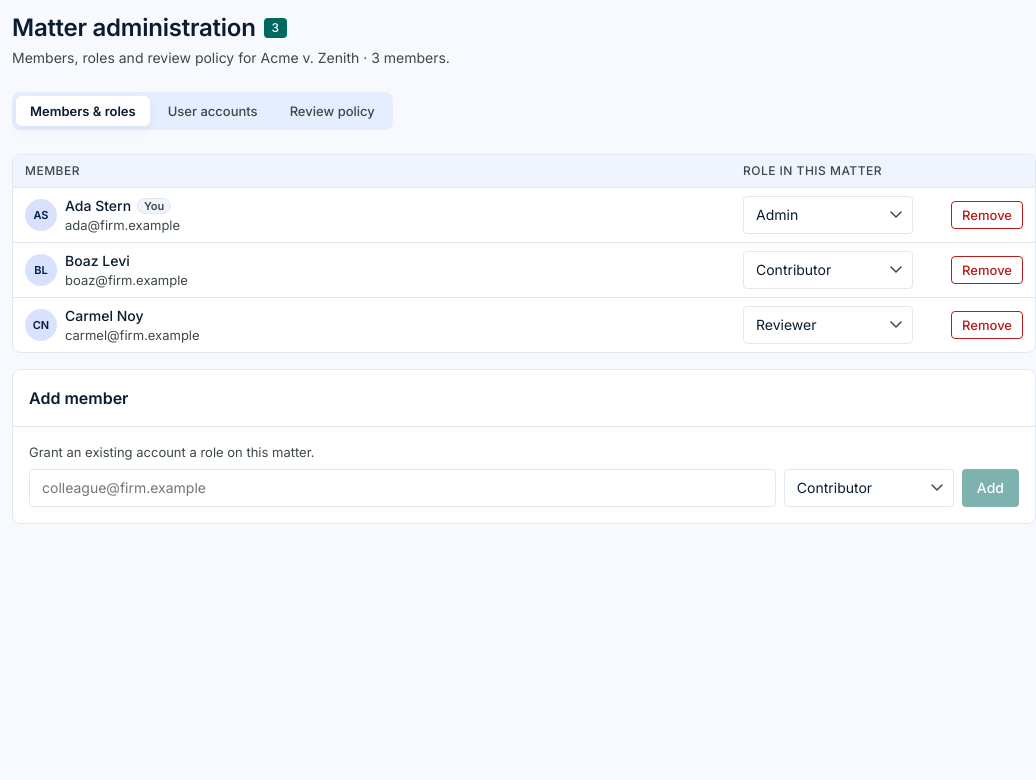
Test: AdminPage › User accounts › creates an account and shows the returned sign-in id so the admin can copy it
Expected: the text "Boaz Levi" is shown, [65,252,130,269]
Click the tab "User accounts": (213, 111) [154,96,272,126]
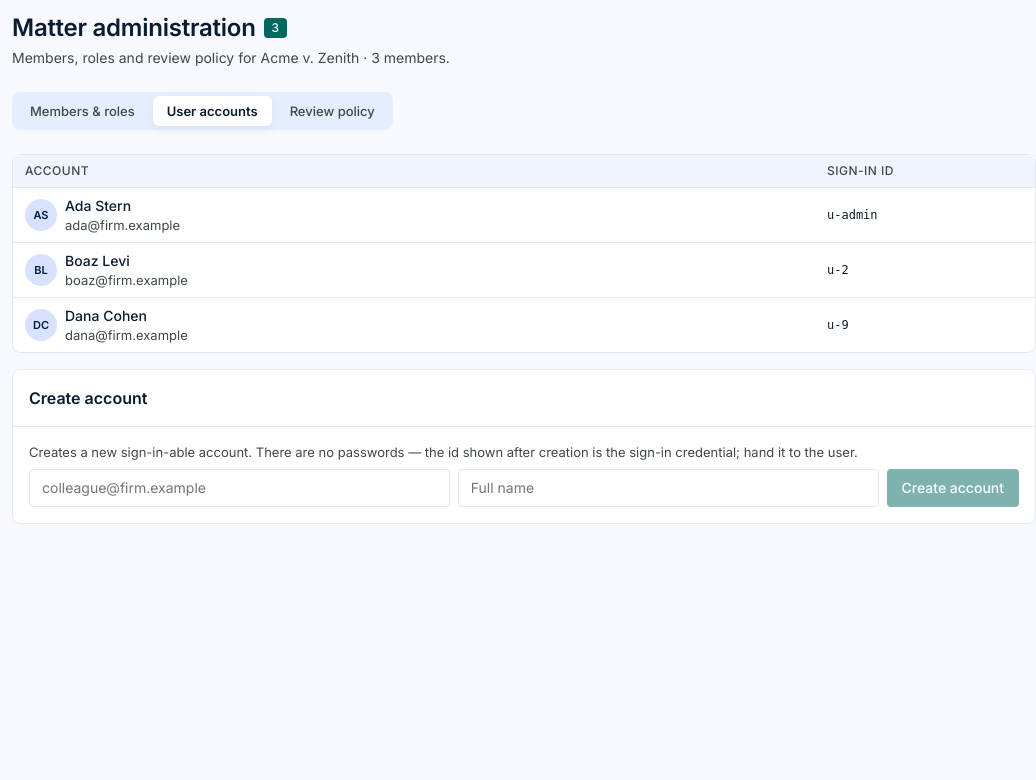
Now the text "Dana Cohen" is shown, box [65,307,147,324]
In the field named "email for the new account": (239, 488) [29,469,450,507], type "erez@firm.example"
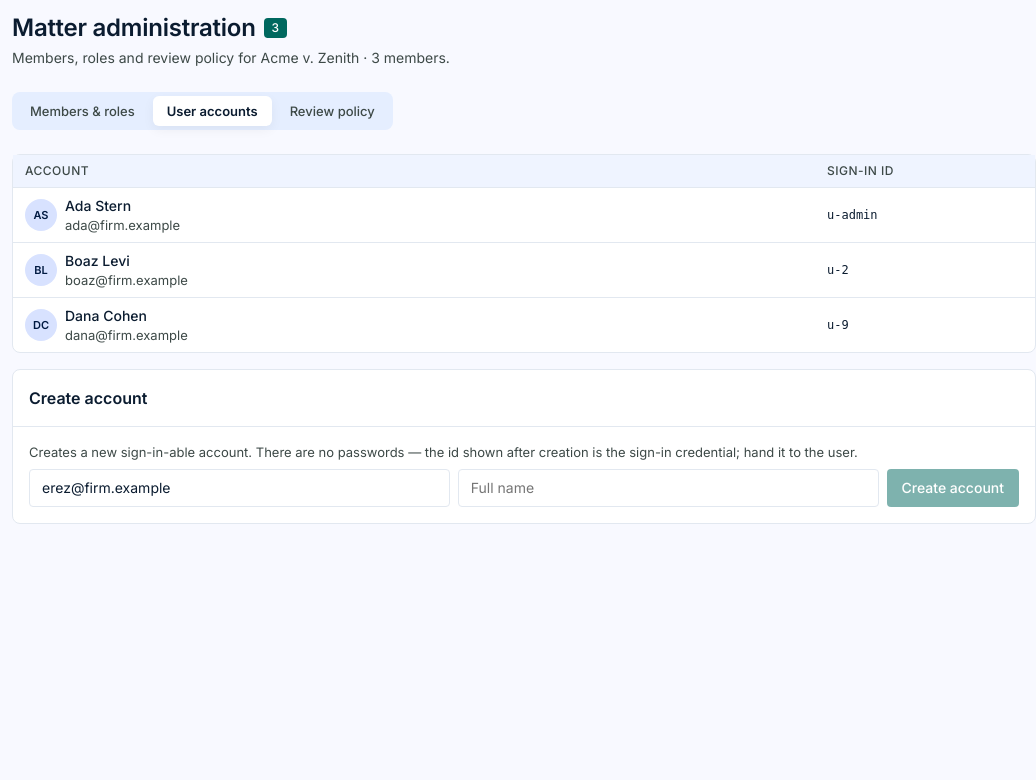
In the field named "display name for the new account": (668, 488) [458,469,879,507], type "Erez Katz"
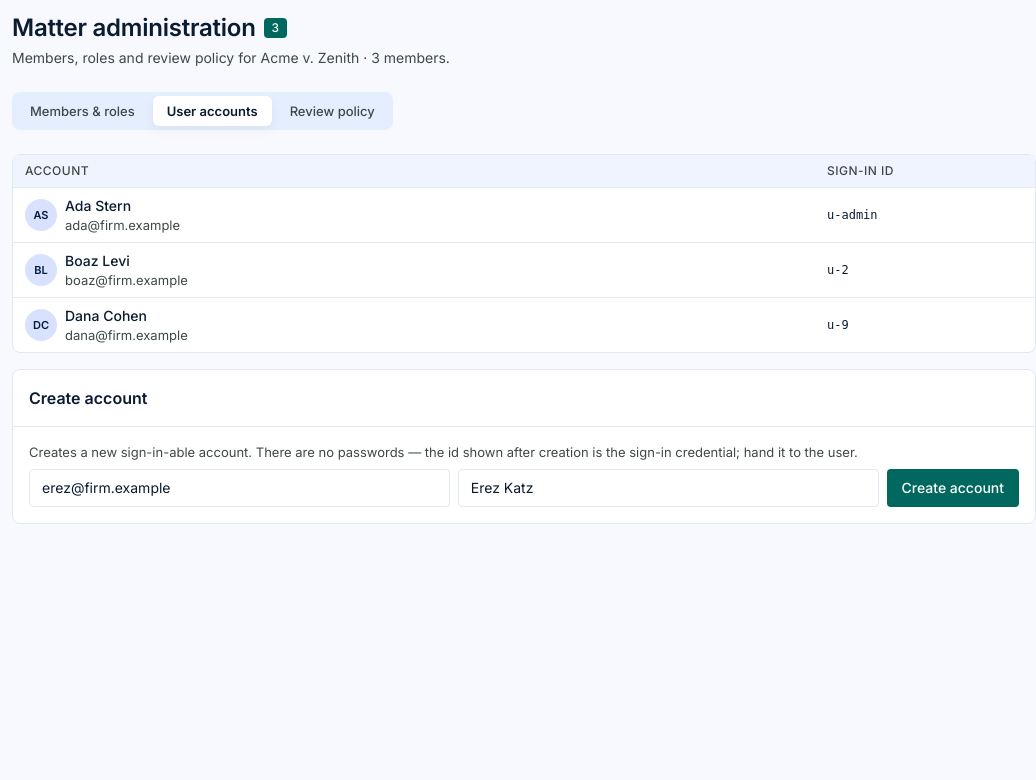
Click the button "Create account": (953, 488) [886,469,1019,507]
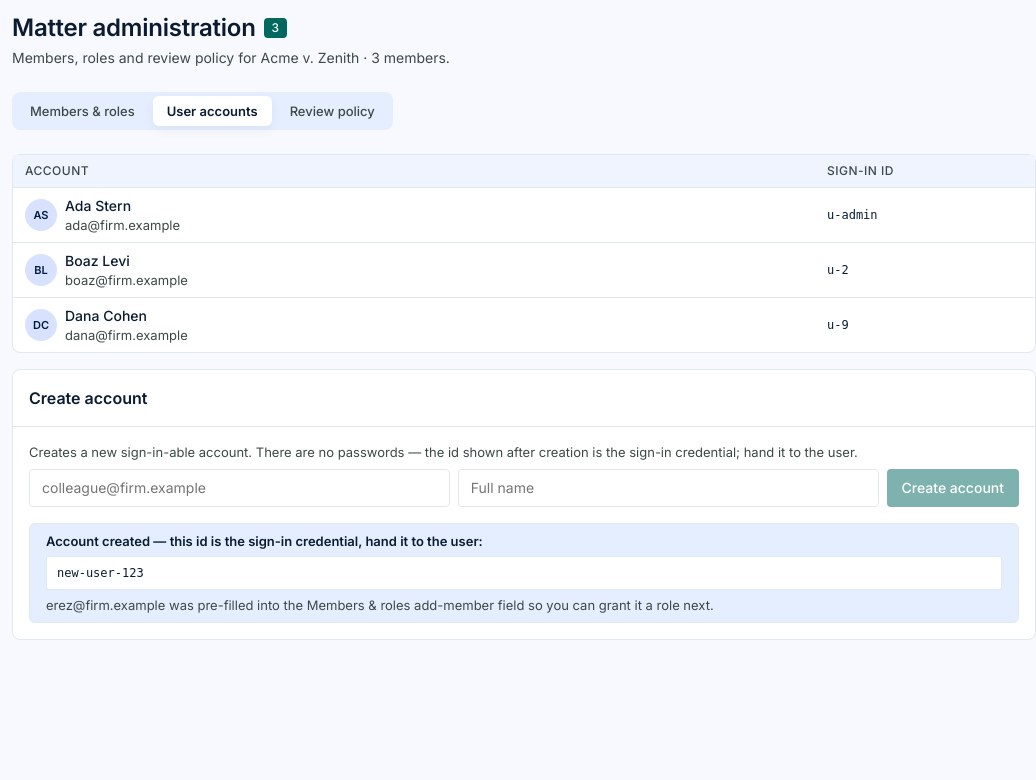
Now the text "new-user-123" is shown, box [46,556,1002,590]
